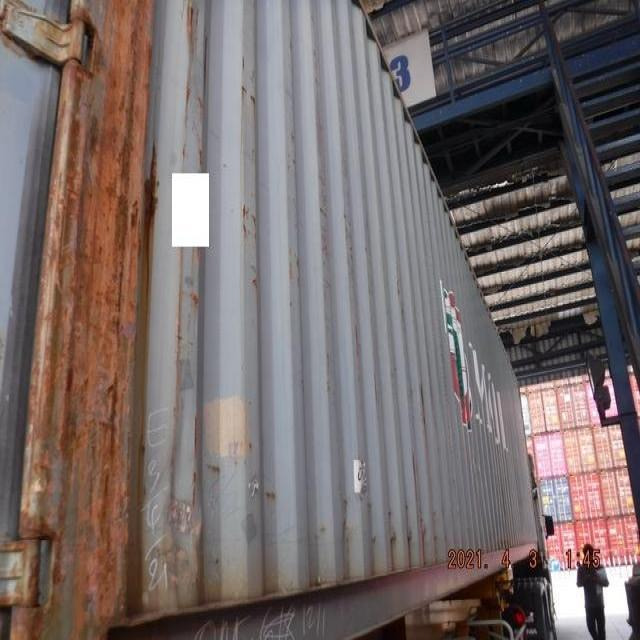Minor-Dent: (137, 448, 225, 561)
